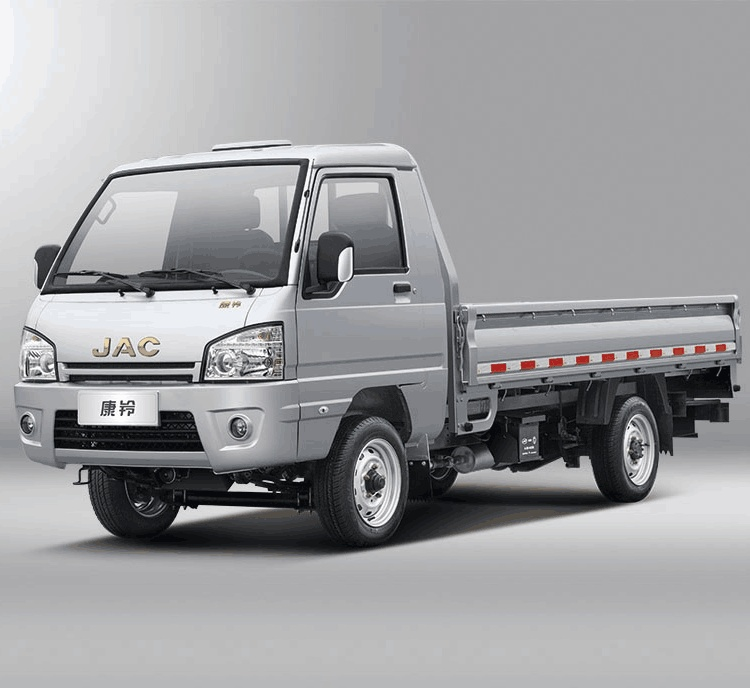truck: (22, 123, 740, 545)
